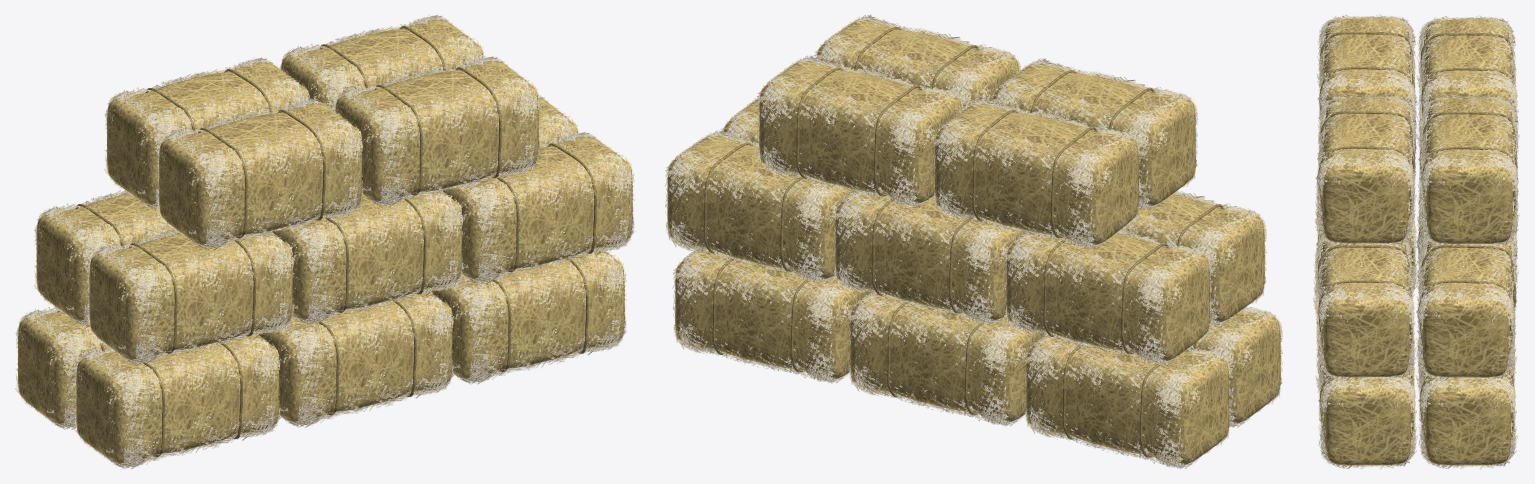
Rendered from straw-bale-stack.glb.
The picture shows the model from 3 angles, left to right: view 1: azimuth 30°, elevation 25°; view 2: azimuth 150°, elevation 25°; view 3: azimuth 270°, elevation 25°; orthographic projection. The views are drawn at different scales.
Visible parts, largest first — view 1: bale (×13); view 2: bale (×13); view 3: bale (×12).
Boxes of the visible parts, <box> form: bale (×13): <box>15,15,634,468</box>; bale (×13): <box>665,14,1282,468</box>; bale (×12): <box>1314,15,1519,468</box>.
Size of the model in its own units: 5.47 by 2.91 by 2.
1 material, 1 textured.
